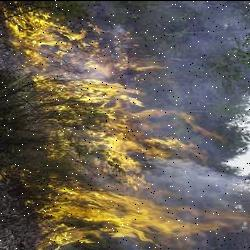fire: (4, 5, 238, 249)
